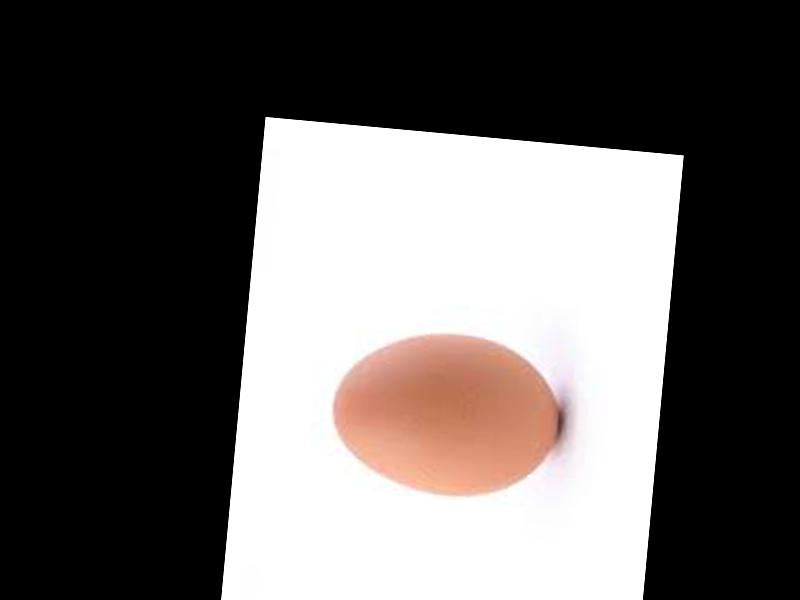Eggs: (326, 321, 565, 504)
